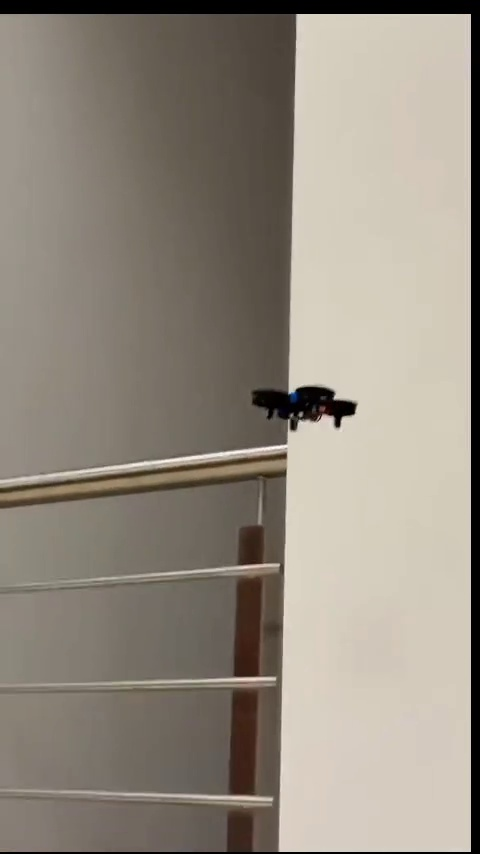drone: (251, 380, 357, 431)
